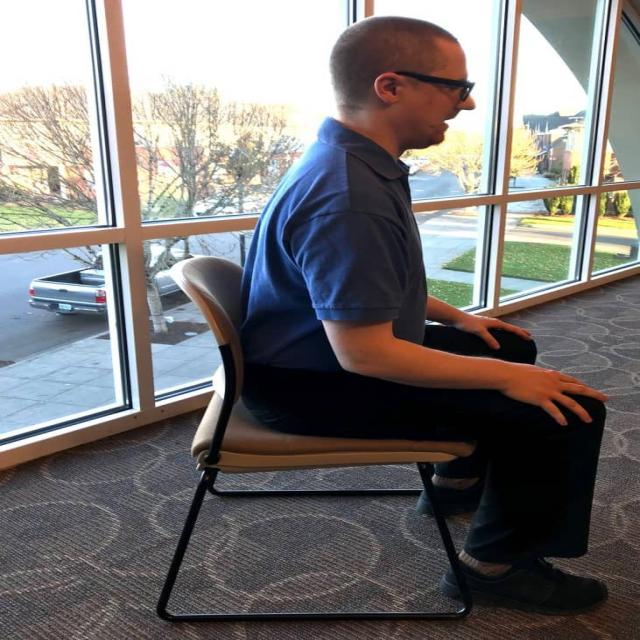sit: (281, 0, 621, 598)
